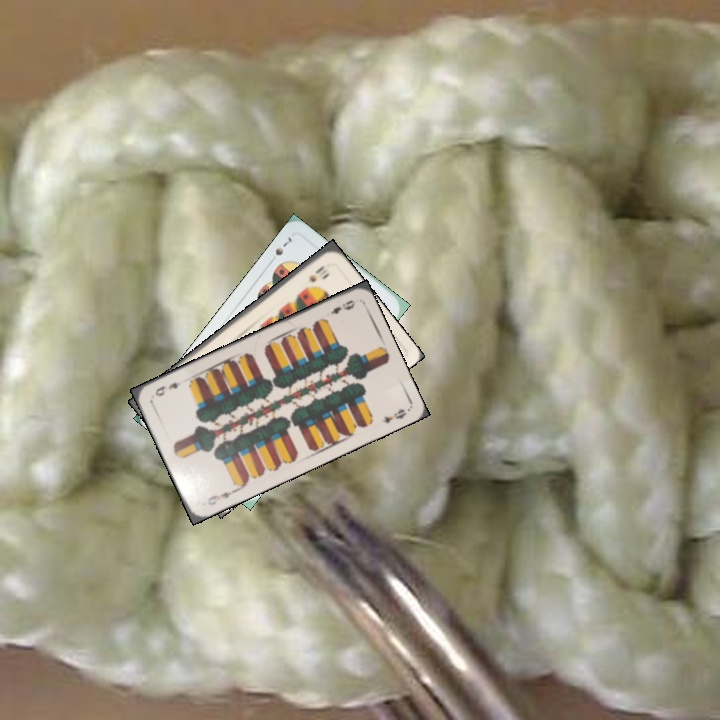E9: (203, 486, 239, 508), (326, 296, 358, 317)
S10: (304, 261, 330, 284)
S7: (265, 232, 294, 266)
